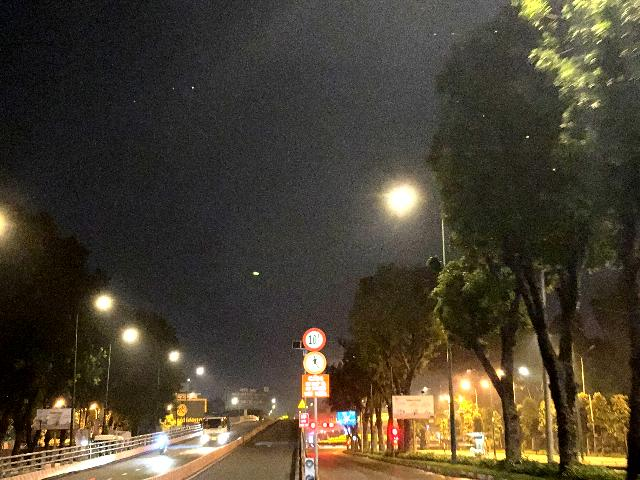cam-nguoi-di-bo: (303, 351, 327, 375)
han-che-trong-luong-xe: (303, 327, 327, 351)
